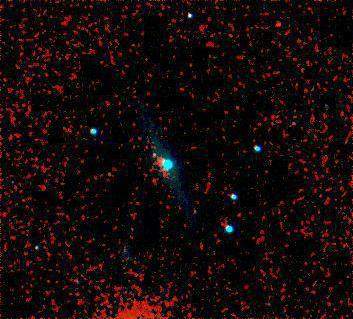star: (263, 10, 293, 40)
